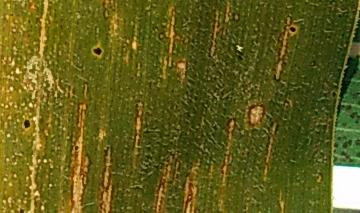tarspot: (89, 43, 106, 59), (20, 117, 33, 130), (70, 143, 83, 154), (287, 23, 297, 35), (329, 87, 337, 101), (15, 204, 26, 213)
